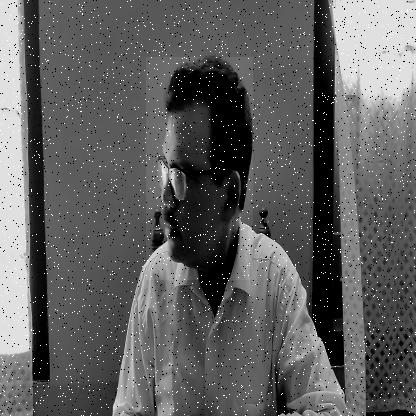Distracted: (146, 57, 253, 280)
